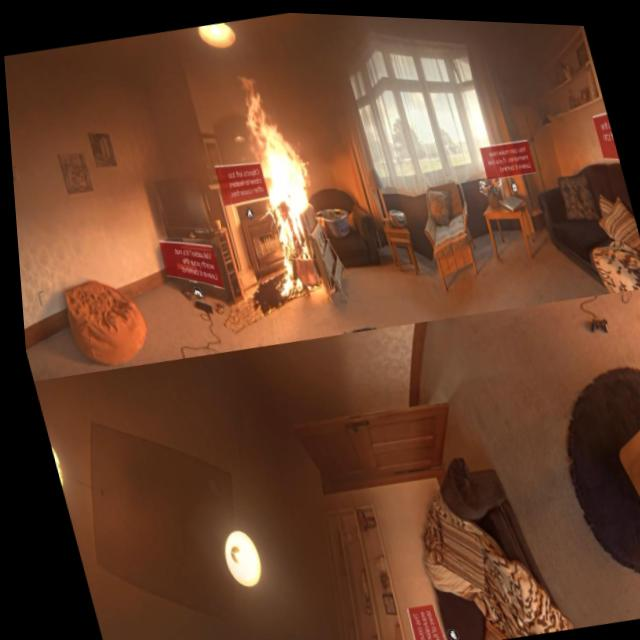fire: (223, 65, 336, 297)
